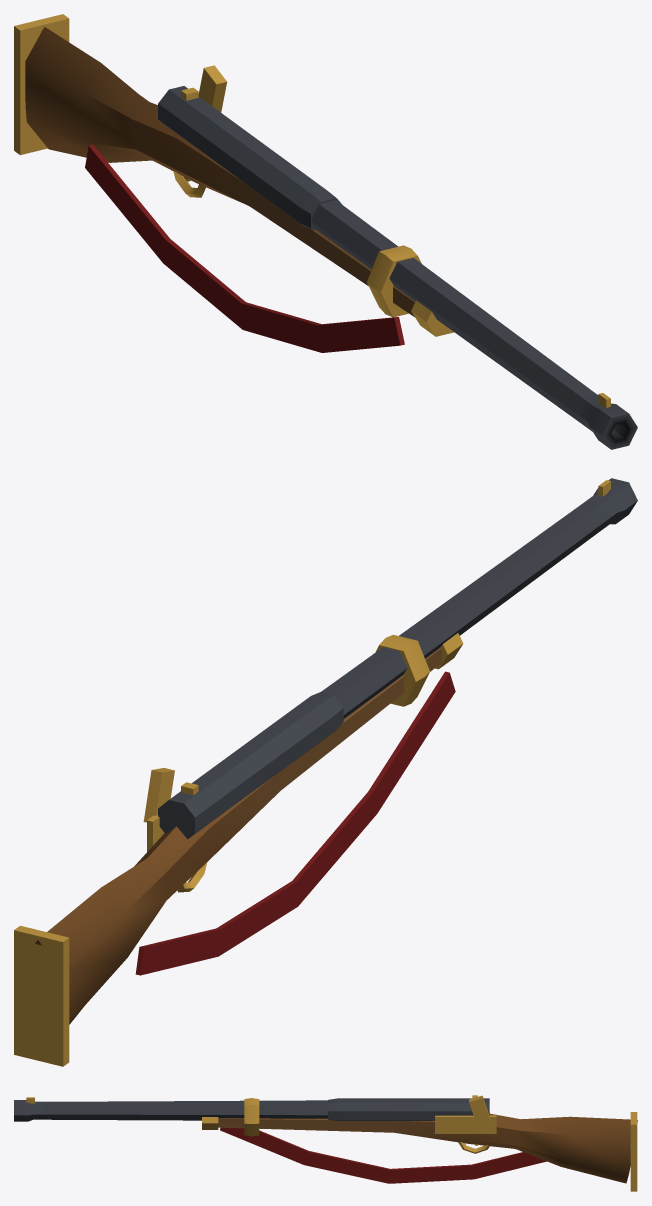
The model's file is weapon_musket_dragoon_lo.glb.
3 views of the same model, one above another, from view 1: azimuth 30°, elevation 25°; view 2: azimuth 150°, elevation 25°; view 3: azimuth 270°, elevation 25° (orthographic). The views are drawn at different scales.
Parts seen in each view (by area): view 1: weapon_musket_dragoon_lo; view 2: weapon_musket_dragoon_lo; view 3: weapon_musket_dragoon_lo.
Part boxes in pixels (x1,y1,x2,y2): weapon_musket_dragoon_lo: [14, 14, 637, 449]; weapon_musket_dragoon_lo: [14, 478, 637, 1066]; weapon_musket_dragoon_lo: [14, 1095, 637, 1191].
Size of the model in its own units: 0.077 by 0.2315 by 1.31.
